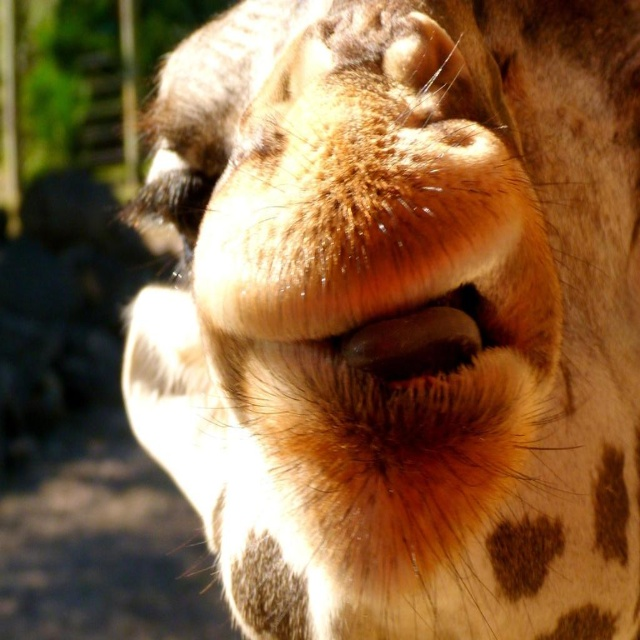Giraffe: (118, 0, 640, 639)
